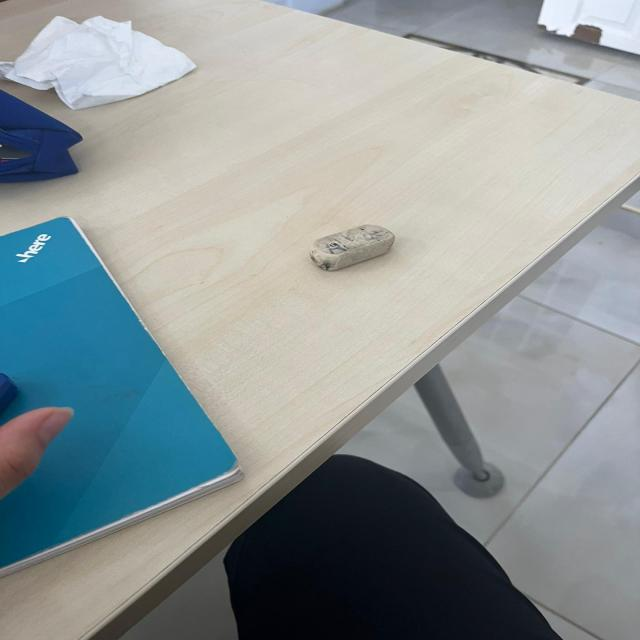eraser: (297, 216, 400, 279)
